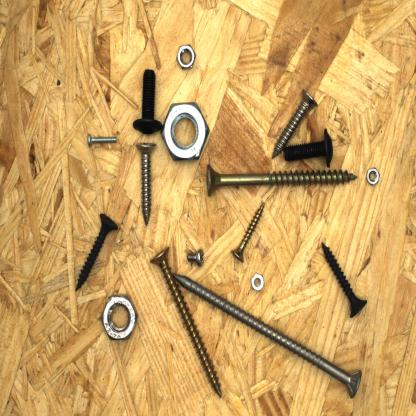screw: (171, 270, 364, 401), (147, 244, 225, 401), (205, 161, 359, 198), (74, 209, 121, 296), (320, 238, 368, 322), (268, 85, 321, 161), (130, 67, 166, 138), (230, 198, 268, 264), (281, 127, 336, 170), (134, 140, 159, 229), (84, 132, 120, 150), (184, 248, 208, 268)
